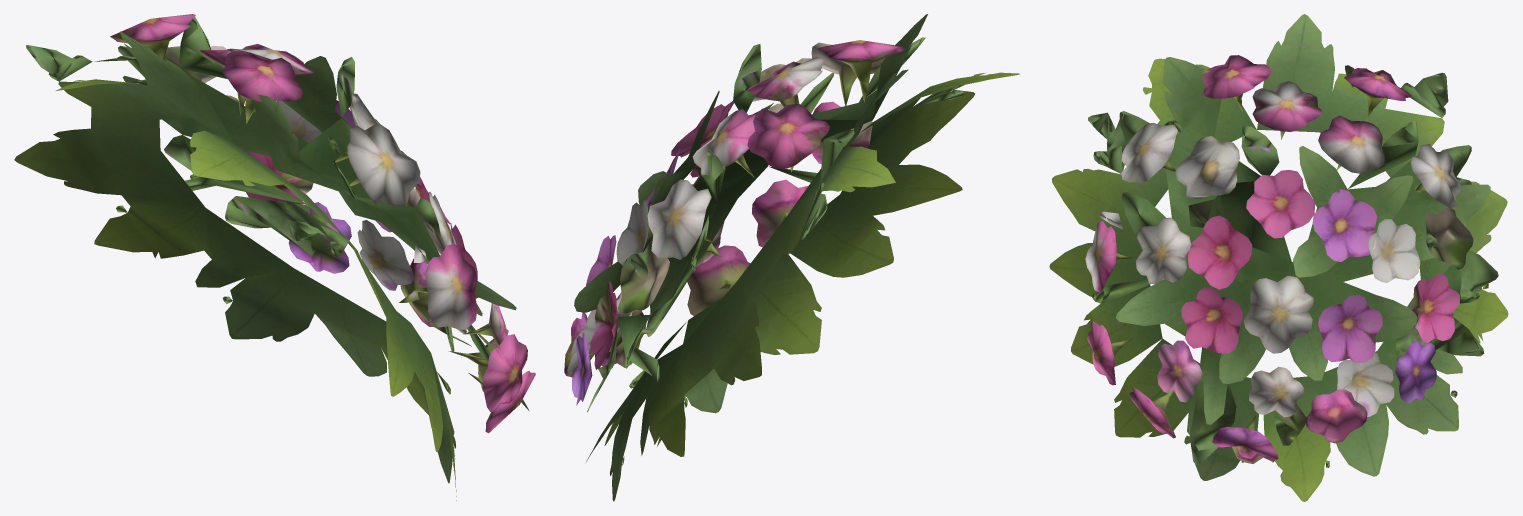
File: flower-clump.glb
3 renders of one model, left to right at view 1: azimuth 30°, elevation 25°; view 2: azimuth 150°, elevation 25°; view 3: azimuth 270°, elevation 25°, orthographic. The views are drawn at different scales.
Parts seen in each view (by area): view 1: tripo_node_7c9178e5-0425-43ac-9b2c-e51841bdf2c9; view 2: tripo_node_7c9178e5-0425-43ac-9b2c-e51841bdf2c9; view 3: tripo_node_7c9178e5-0425-43ac-9b2c-e51841bdf2c9.
Part boxes in pixels (bbox=[...]): tripo_node_7c9178e5-0425-43ac-9b2c-e51841bdf2c9: bbox=[14, 14, 535, 500]; tripo_node_7c9178e5-0425-43ac-9b2c-e51841bdf2c9: bbox=[564, 14, 1019, 501]; tripo_node_7c9178e5-0425-43ac-9b2c-e51841bdf2c9: bbox=[1049, 14, 1508, 501].
Size of the model in its own units: 0.748 by 0.8808 by 0.998.
1 material, 1 textured.
